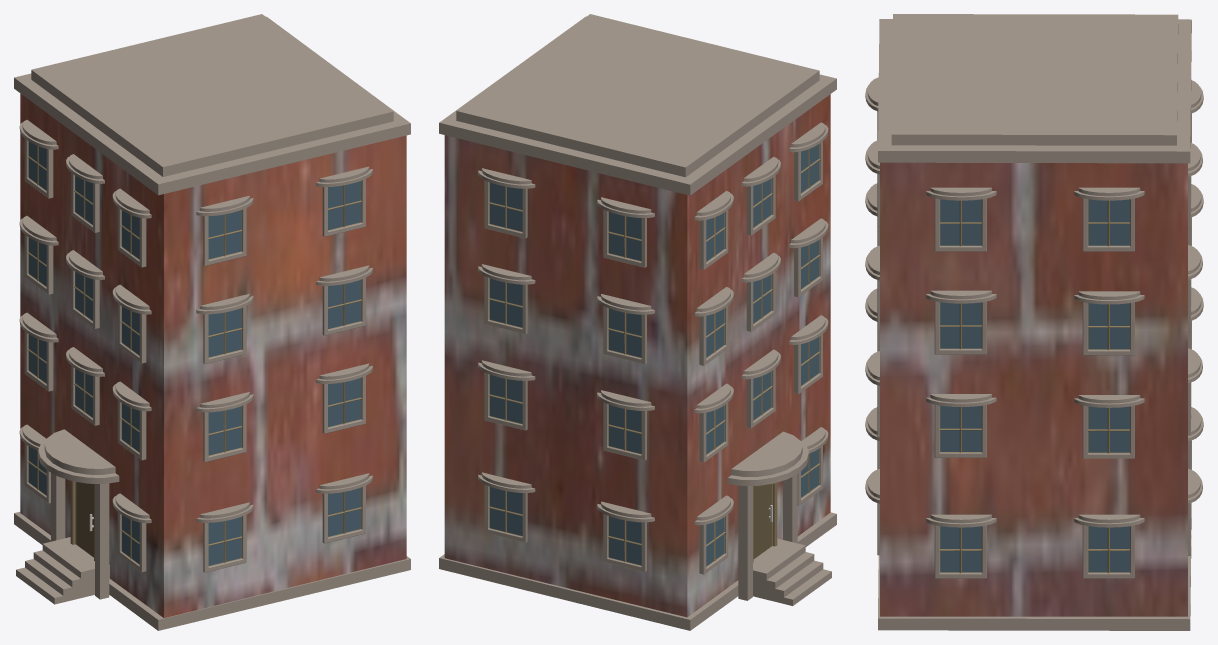
Rendered from EdificioExtra1.fbx.
The picture shows the model from 3 angles, left to right: view 1: azimuth 30°, elevation 25°; view 2: azimuth 150°, elevation 25°; view 3: azimuth 270°, elevation 25°; orthographic projection. The views are drawn at different scales.
Visible parts, largest first — view 1: EdificioExtra1; view 2: EdificioExtra1; view 3: EdificioExtra1.
Boxes of the visible parts, <box> form: EdificioExtra1: <box>14,14,410,630</box>; EdificioExtra1: <box>439,14,836,630</box>; EdificioExtra1: <box>865,14,1203,630</box>.
Bounding box in the file's own units: 615 × 870 × 542.
Materials: 6 (2 with a texture image).
